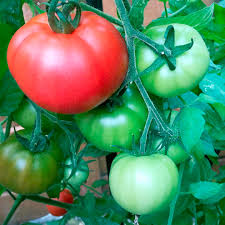tomato: (6, 10, 129, 115), (132, 23, 212, 98), (75, 84, 148, 152), (109, 150, 180, 215), (1, 128, 65, 193), (141, 110, 197, 164), (43, 187, 74, 216), (60, 155, 88, 185)
